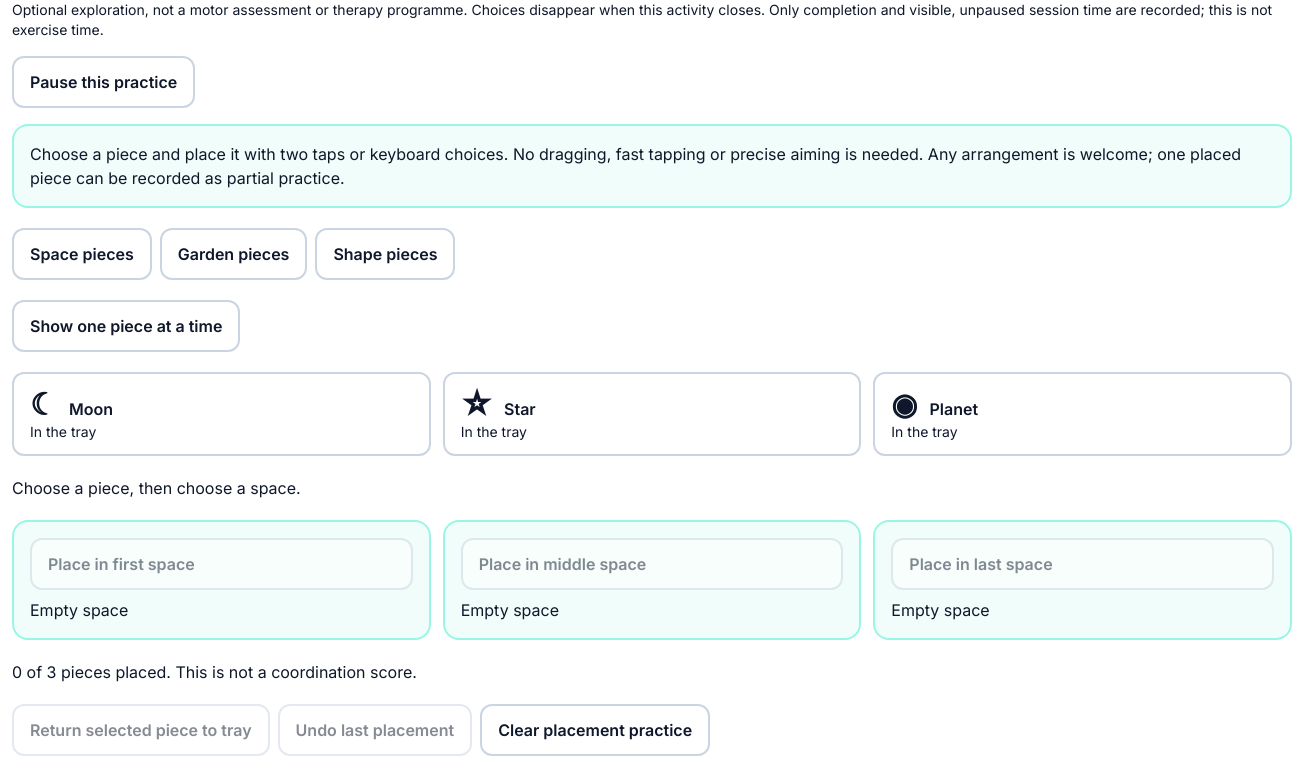
Dyspraxia fine motor placement › moving a piece invalidates the earlier review and undo restores its location
The image size is (1304, 782).
Step 1. Click the button with aria-label "Choose Moon" → (91, 409), box [12,372,431,456]
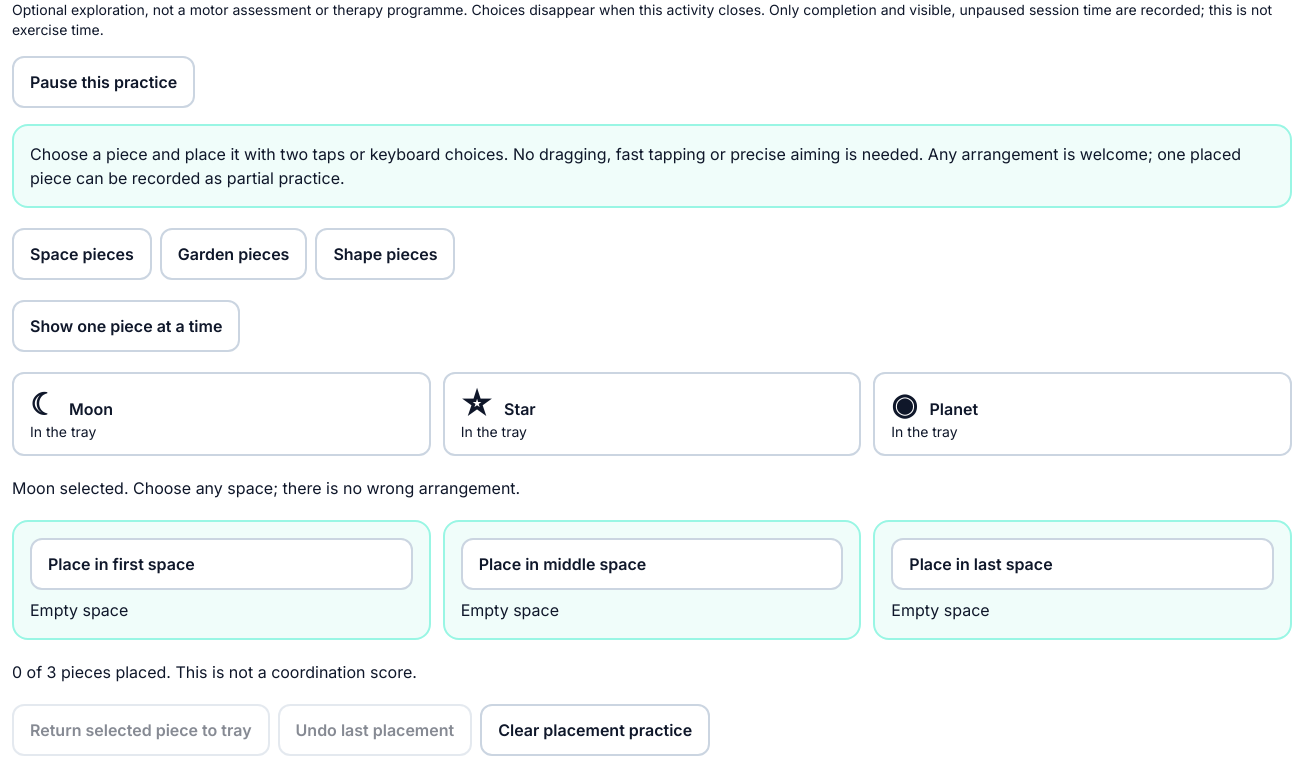
Step 2. Click the button "Place in first space" → (80, 564), box [30,538,413,590]
(page scrolled)
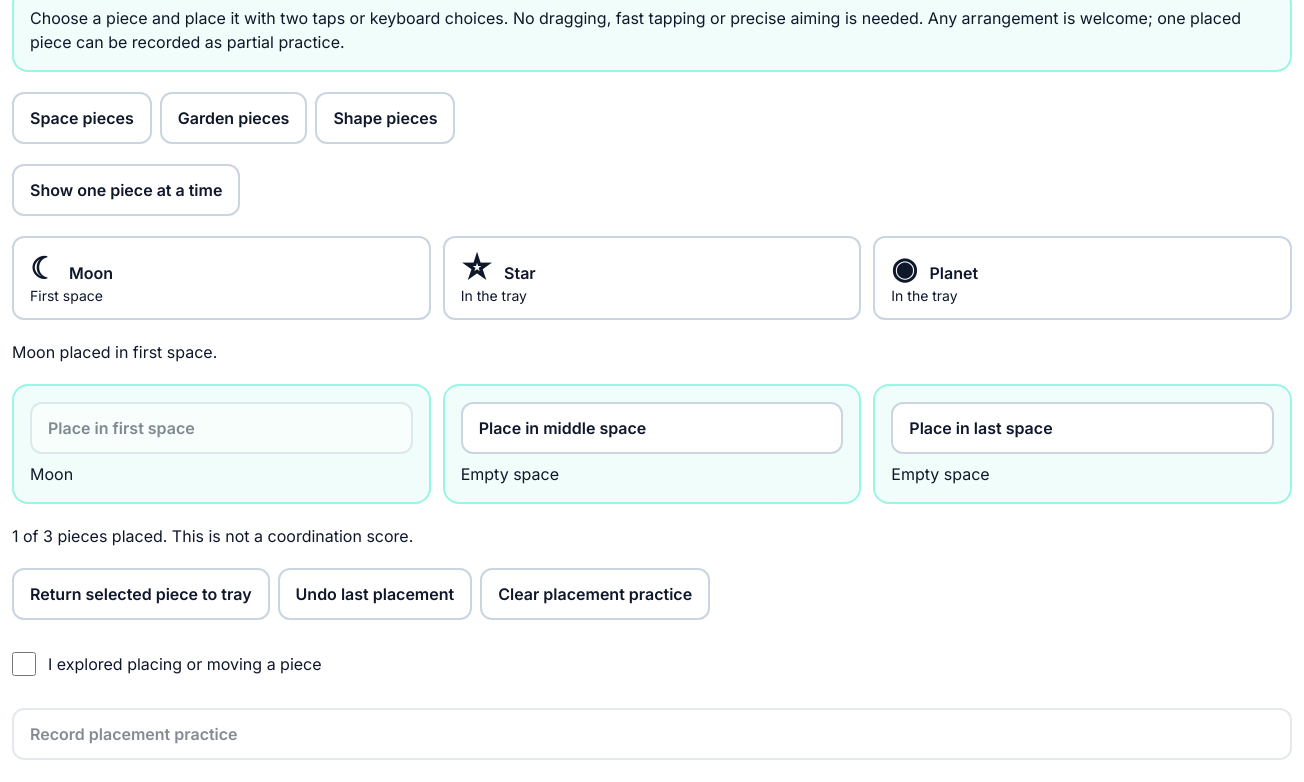
Step 3. Click the checkbox labelled "I explored placing or moving a piece" → (24, 664), box [12,652,36,676]
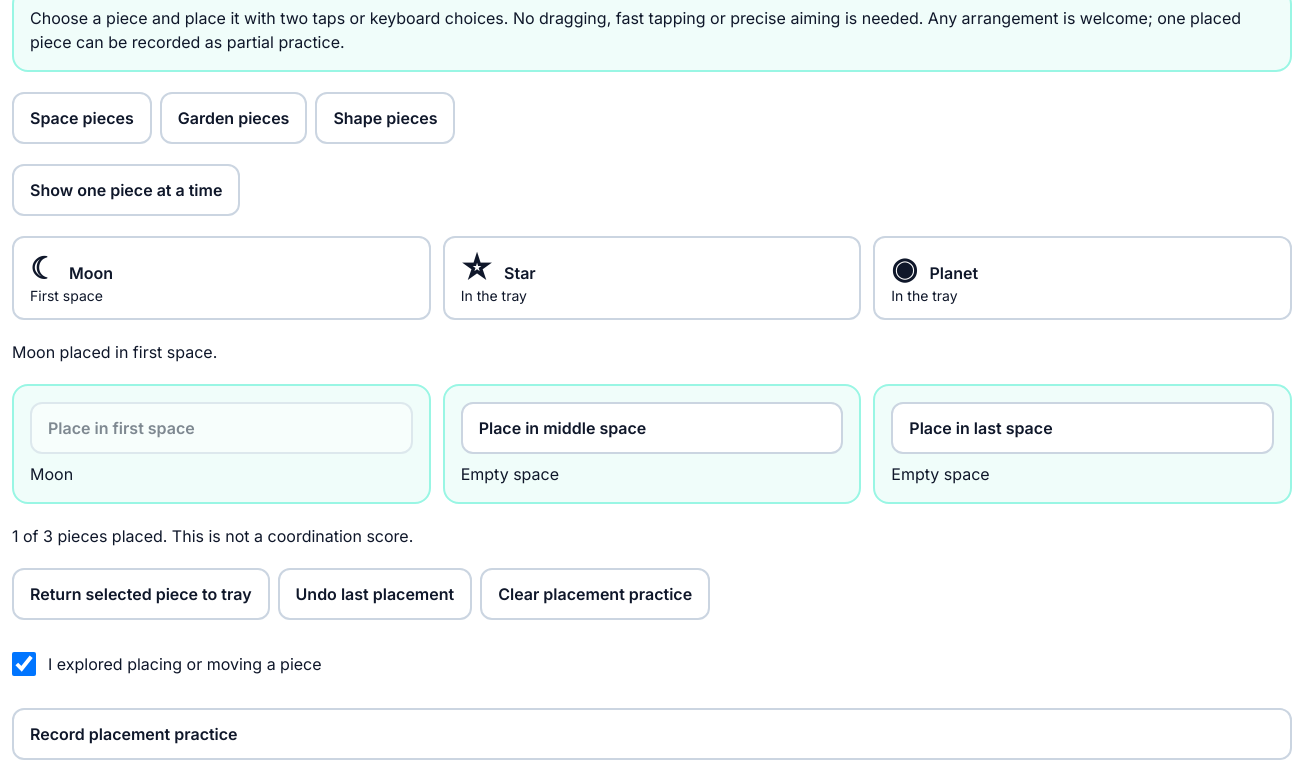
Step 4. Click the button "Place in middle space" → (511, 428), box [461,402,843,454]
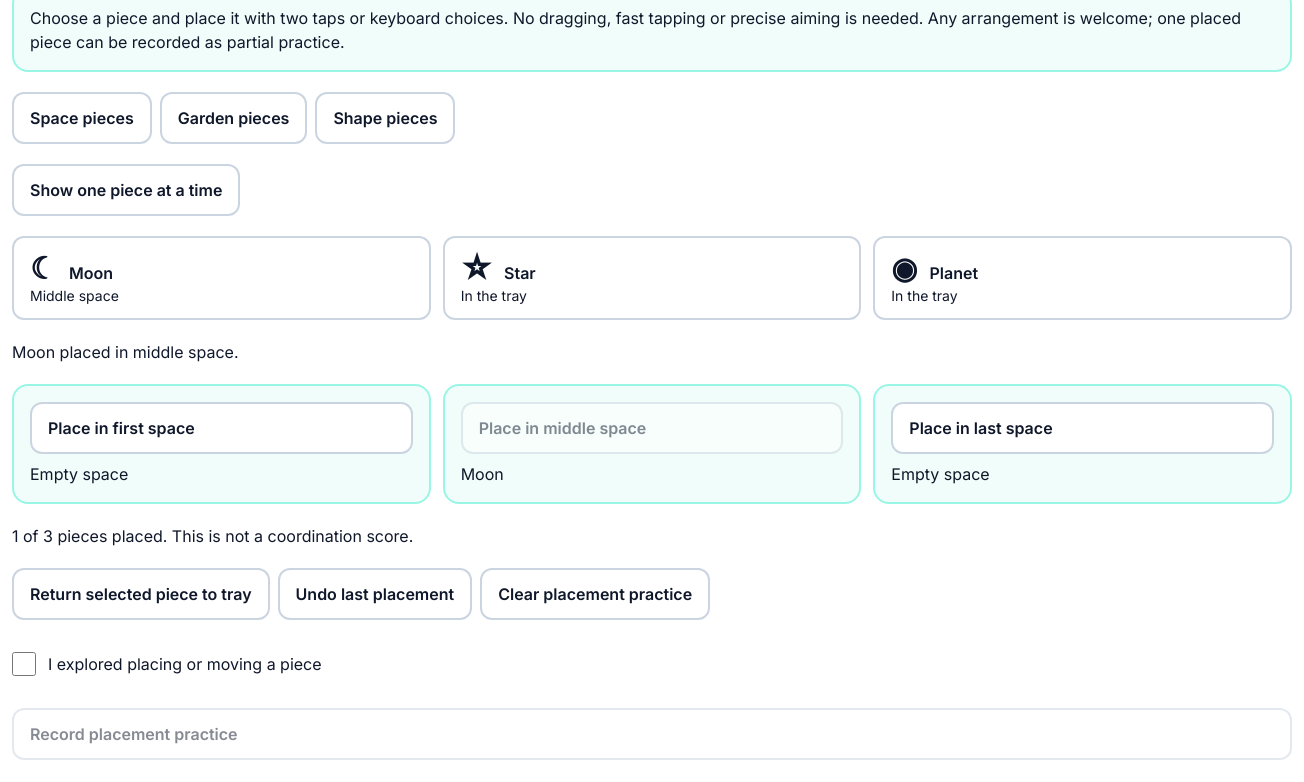
Check: the checkbox is not checked, box [12,652,36,676]
Check: the text with test id "motor-space-0" reads "Empty space", box [30,464,128,484]
Step 5. Click the button "Undo last placement" → (375, 594), box [278,568,472,620]
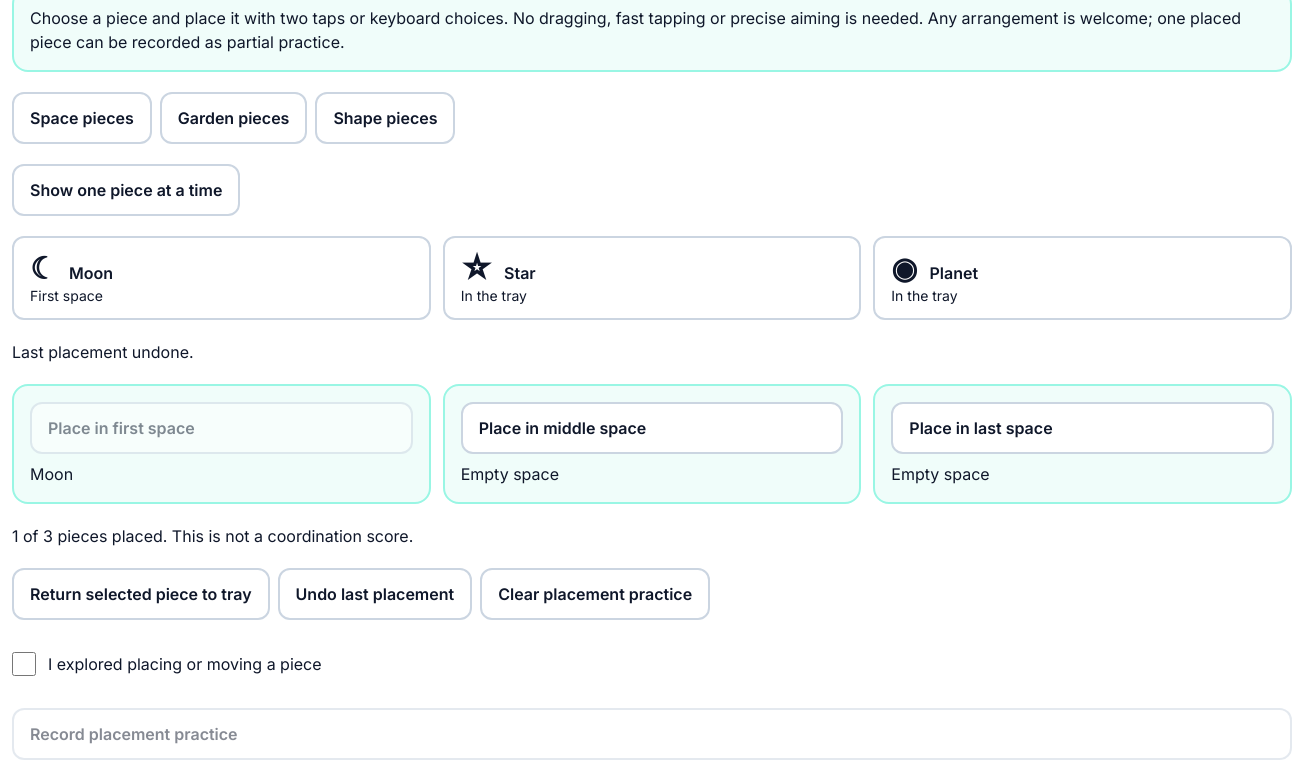
Check: the checkbox is not checked, box [12,652,36,676]
Check: the text with test id "motor-space-0" reads "Moon", box [30,464,73,484]
